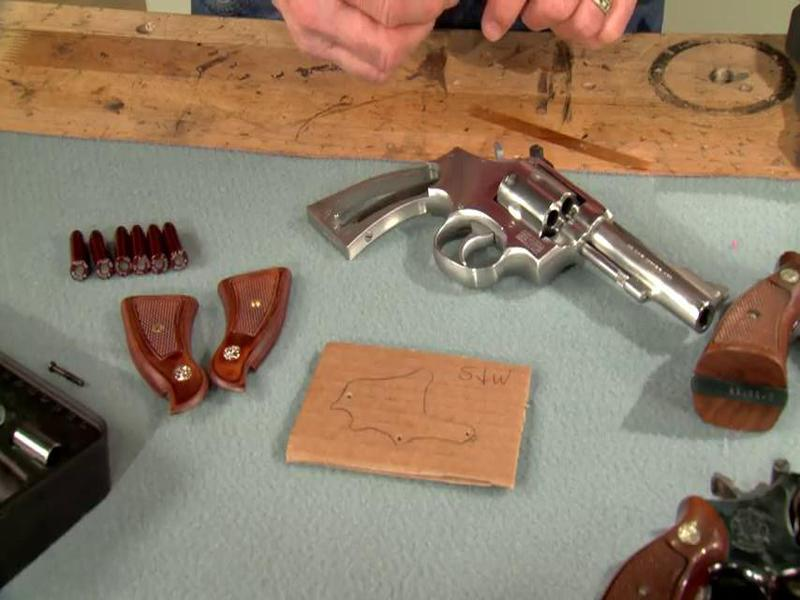Revolver: (286, 115, 726, 380)
